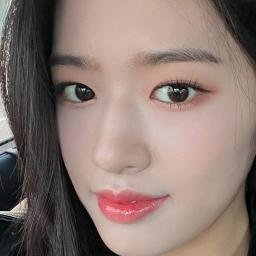face: (60, 0, 244, 256)
